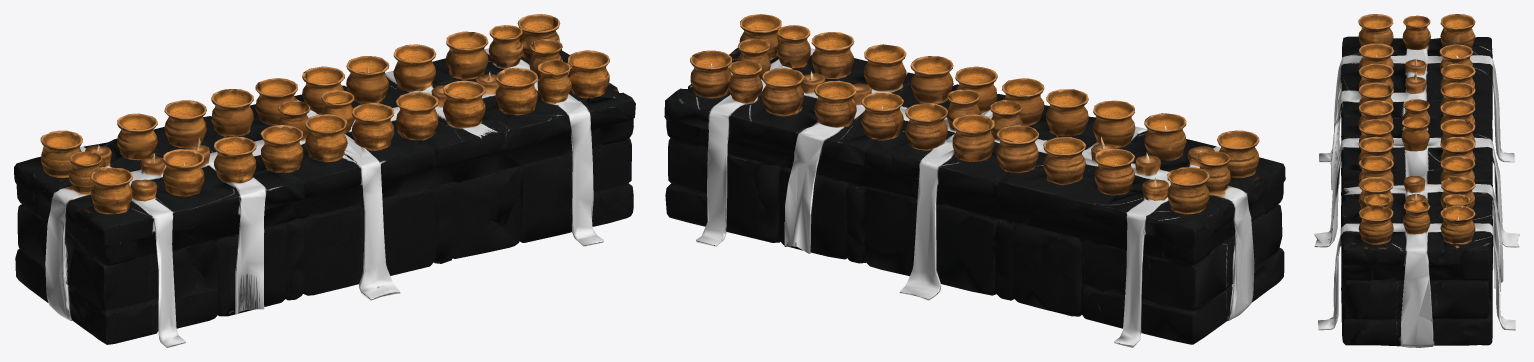
Rendered from butter_lamps.glb.
The picture shows the model from 3 angles, left to right: view 1: azimuth 30°, elevation 25°; view 2: azimuth 150°, elevation 25°; view 3: azimuth 270°, elevation 25°; orthographic projection. The views are drawn at different scales.
Visible parts, largest first — view 1: Mesh_0; view 2: Mesh_0; view 3: Mesh_0.
Boxes of the visible parts, <box> form: Mesh_0: <box>14,14,635,347</box>; Mesh_0: <box>664,14,1285,347</box>; Mesh_0: <box>1314,14,1519,347</box>.
Bounding box in the file's own units: 3.7 × 1 × 1.48.
Materials: 1 (1 with a texture image).
